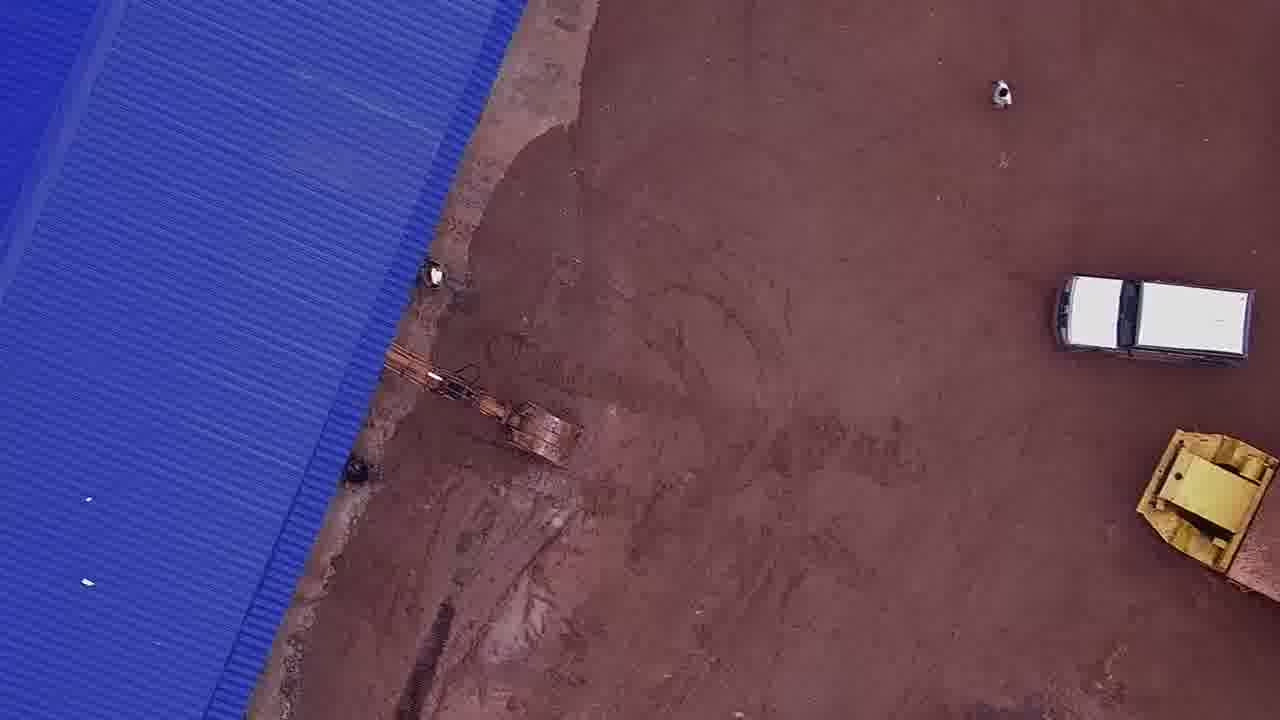LMV: (1050, 269, 1255, 368)
Person: (984, 71, 1019, 114), (422, 254, 455, 292)
